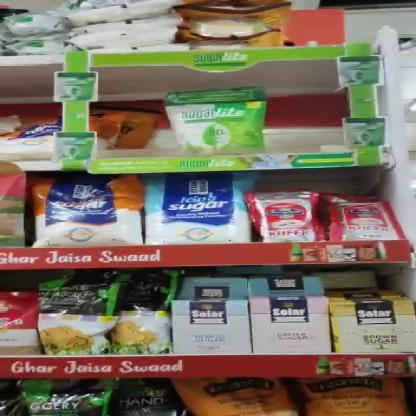SUGARLITE POUCH 500G: (168, 90, 270, 156)
